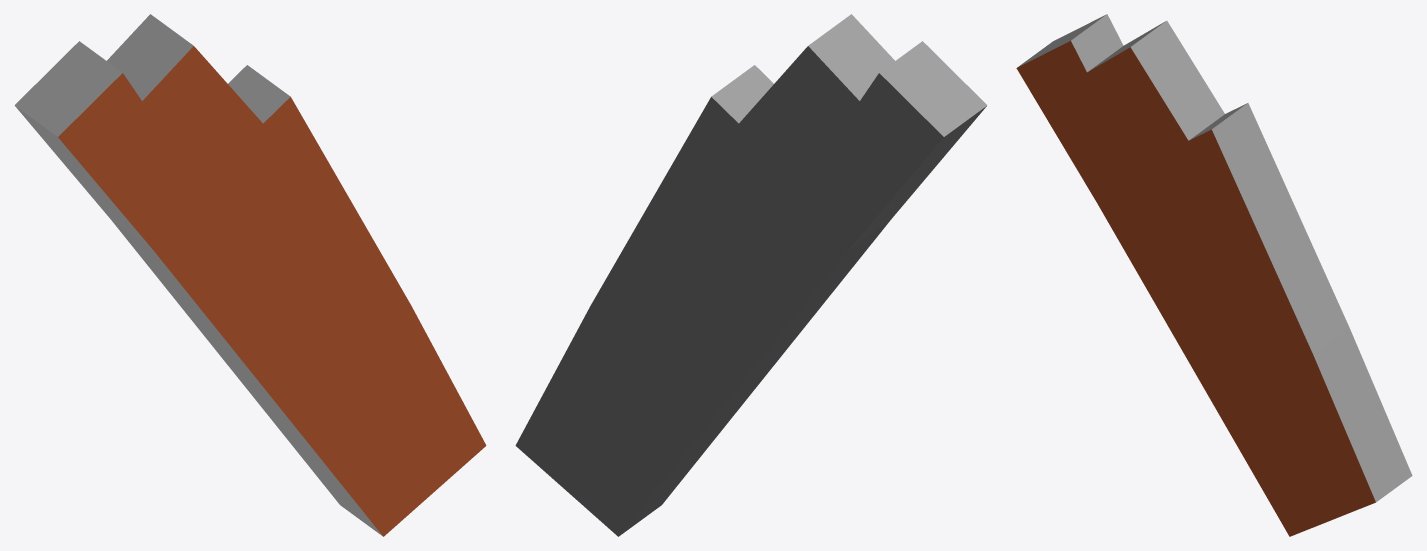
File: construction_4258_assumed_A_Casa_h6m.obj
3 views of the same model, side by side, from view 1: azimuth 30°, elevation 25°; view 2: azimuth 150°, elevation 25°; view 3: azimuth 330°, elevation 25° (orthographic). The views are drawn at different scales.
Visible parts, largest first — view 1: construction_4258_assumed_A_Casa; view 2: construction_4258_assumed_A_Casa; view 3: construction_4258_assumed_A_Casa.
Part boxes in pixels (left/top/right/bottom): construction_4258_assumed_A_Casa: left=14, top=14, right=486, bottom=536; construction_4258_assumed_A_Casa: left=515, top=14, right=987, bottom=536; construction_4258_assumed_A_Casa: left=1016, top=14, right=1412, bottom=536.
Bounding box in the file's own units: 34.12 × 40.89 × 6.
